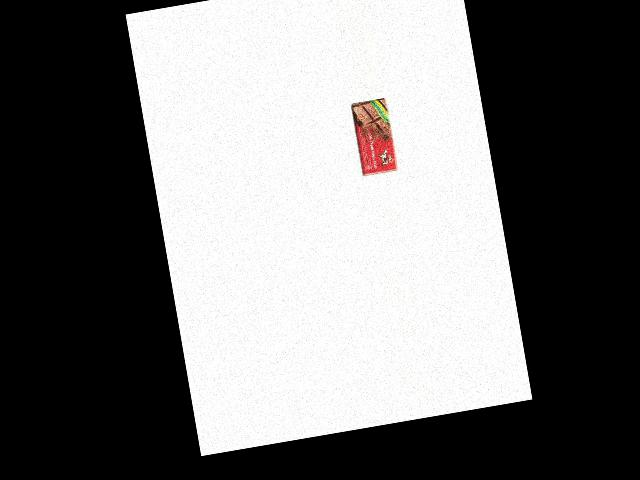chocolate: (348, 97, 399, 178)
